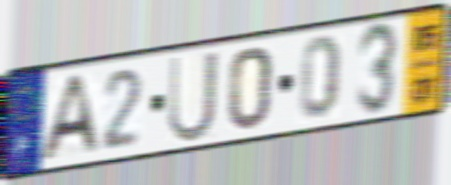0: (298, 31, 345, 125), (226, 45, 275, 133)
2: (100, 66, 147, 155)
3: (354, 17, 400, 121)
A: (36, 71, 104, 166)
U: (166, 47, 220, 146)
